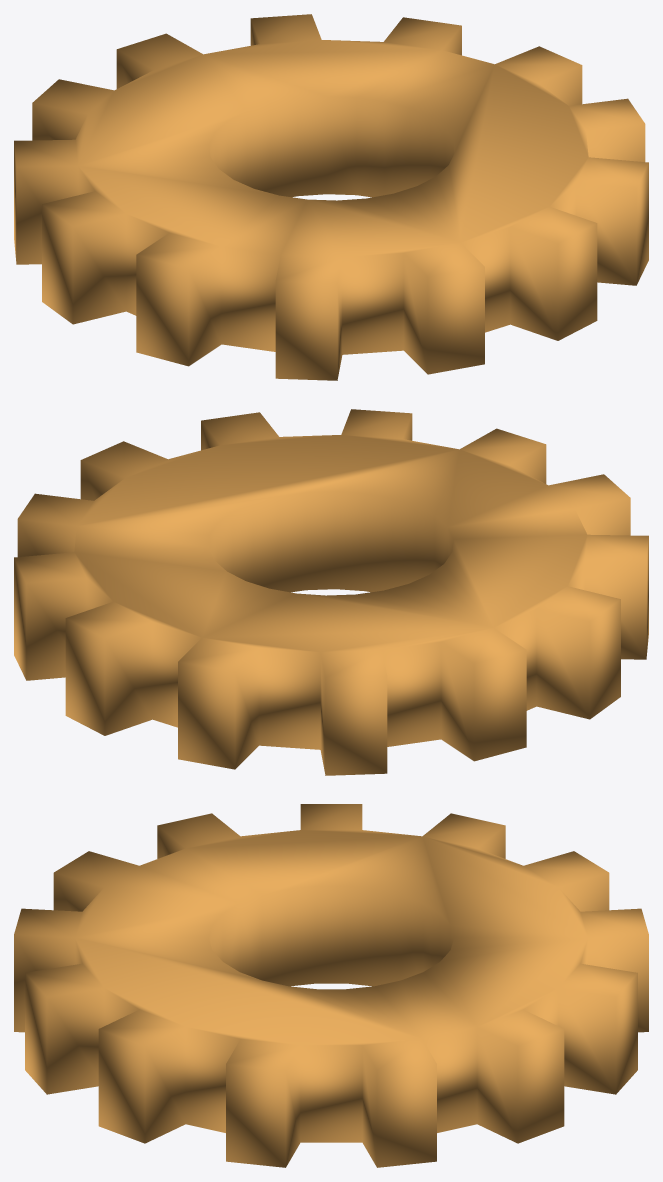
Rendered from wheel.glb.
The picture shows the model from 3 angles, top to bottom: view 1: azimuth 30°, elevation 25°; view 2: azimuth 150°, elevation 25°; view 3: azimuth 270°, elevation 25°; orthographic projection.
Parts seen in each view (by area): view 1: Cylinder.011; view 2: Cylinder.011; view 3: Cylinder.011.
Boxes of the visible parts, x1,y1,x2,y2 form: Cylinder.011: (14,14,648,380); Cylinder.011: (14,409,648,775); Cylinder.011: (14,804,648,1167).
Bounding box in the file's own units: 1.66 × 0.2824 × 1.67.
